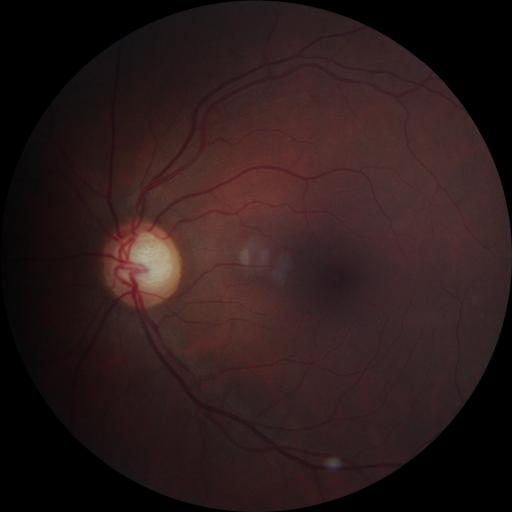Optic Cup: (116, 233, 172, 285)
Optic Disc: (101, 218, 181, 309)
